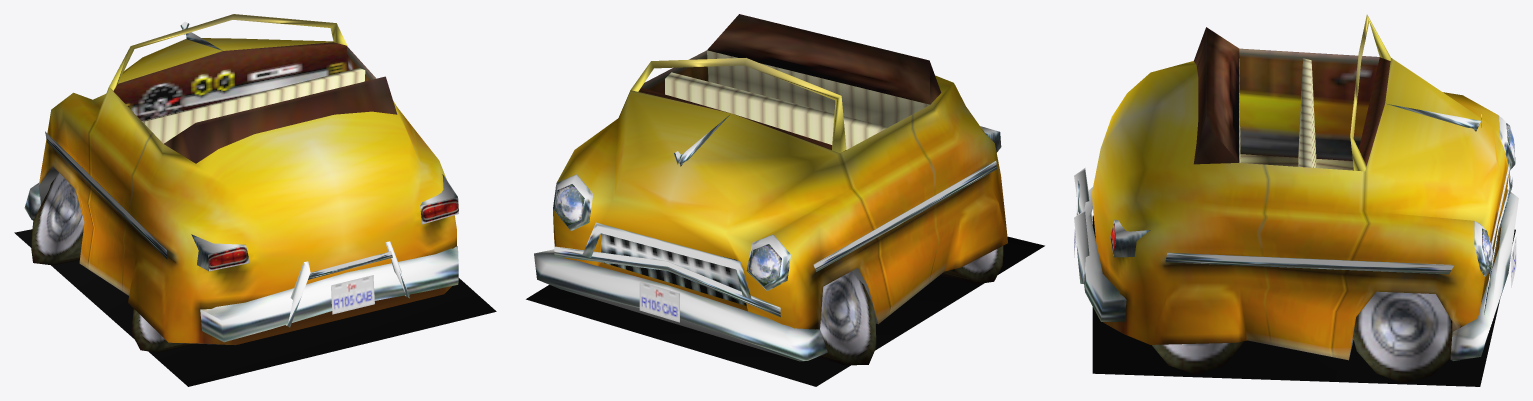
The model's file is slime3.ico.obj.
3 renders of one model, left to right at view 1: azimuth 30°, elevation 25°; view 2: azimuth 150°, elevation 25°; view 3: azimuth 270°, elevation 25°, orthographic. The views are drawn at different scales.
Bounding box in the file's own units: 3.75 × 2.55 × 4.11.
Materials: 1 (1 with a texture image).
